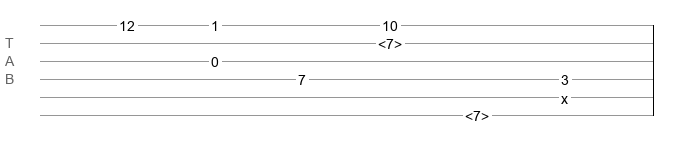0: (211, 54, 219, 64)
1: (211, 18, 219, 28)
10: (382, 18, 398, 28)
12: (119, 18, 135, 28)
3: (561, 72, 569, 82)
7: (298, 72, 306, 82)
harmonic: (378, 36, 402, 46), (465, 108, 489, 118)
x: (561, 91, 568, 99)
